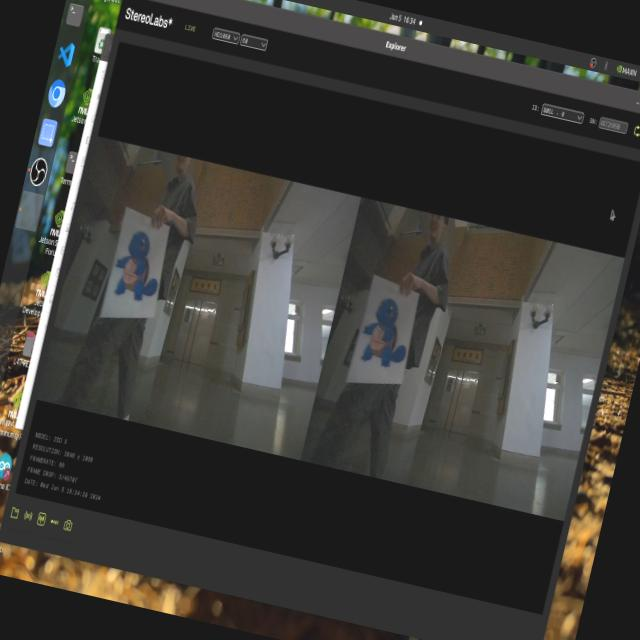blue: (352, 278, 422, 379), (109, 223, 173, 320)
